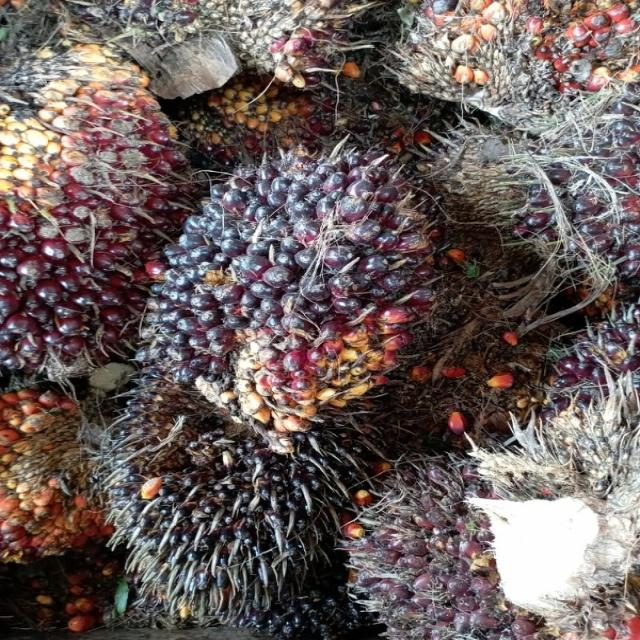fraksi 00: (146, 155, 454, 417), (96, 388, 341, 617)
fraksi 1: (0, 57, 172, 359)
